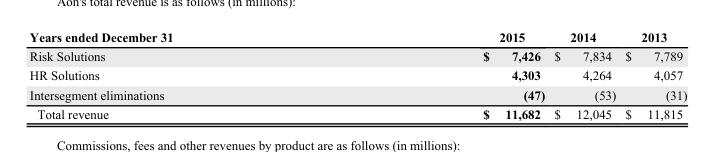table: (28, 29, 686, 120)
table column: (28, 29, 327, 120), (327, 29, 548, 120), (548, 29, 619, 120), (619, 29, 686, 120)
table column header: (28, 29, 686, 45)
table row: (28, 45, 686, 65), (28, 84, 686, 104), (28, 65, 686, 84), (28, 29, 686, 45), (28, 104, 686, 120)
